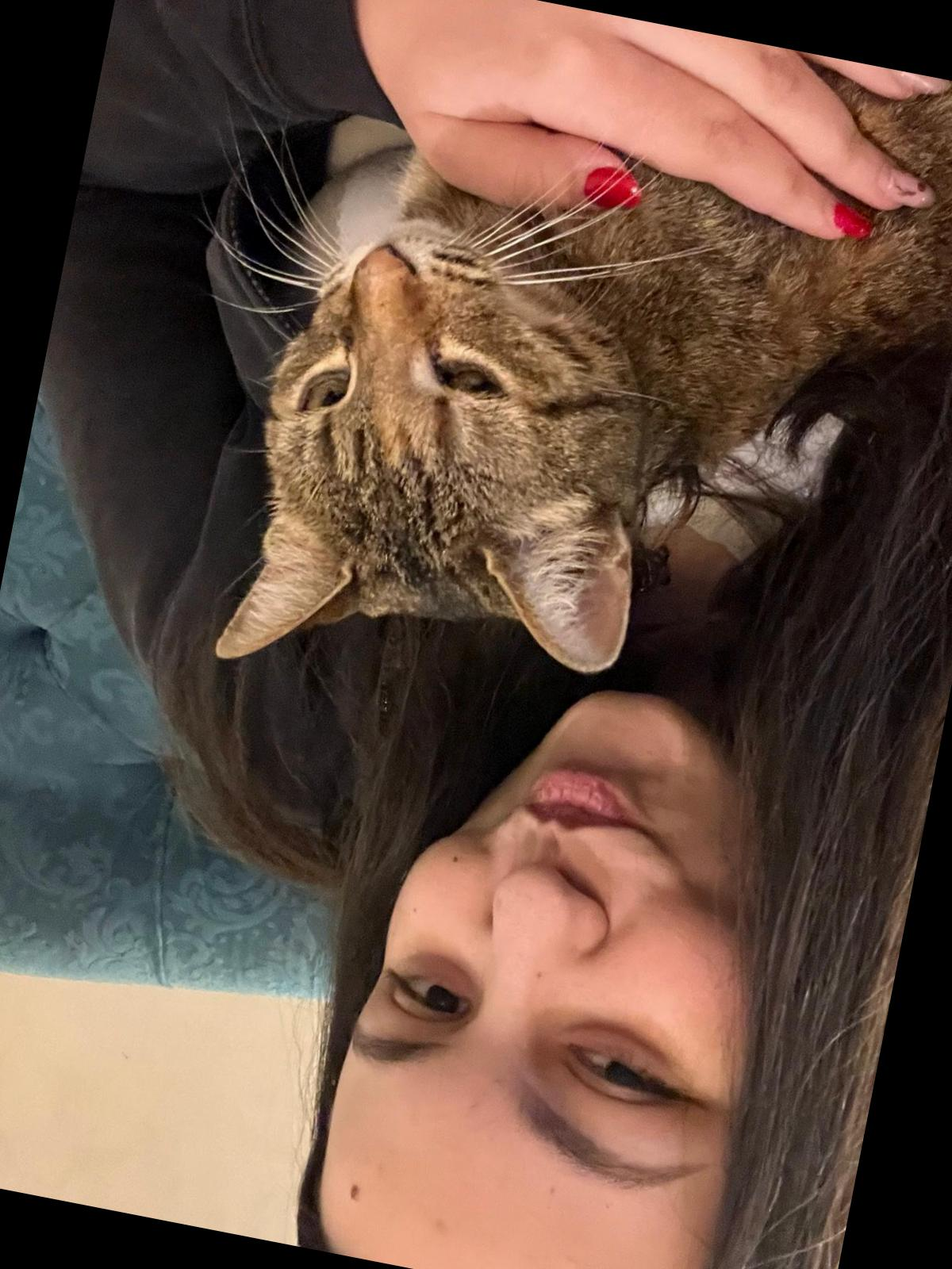macka: (210, 0, 952, 799)
